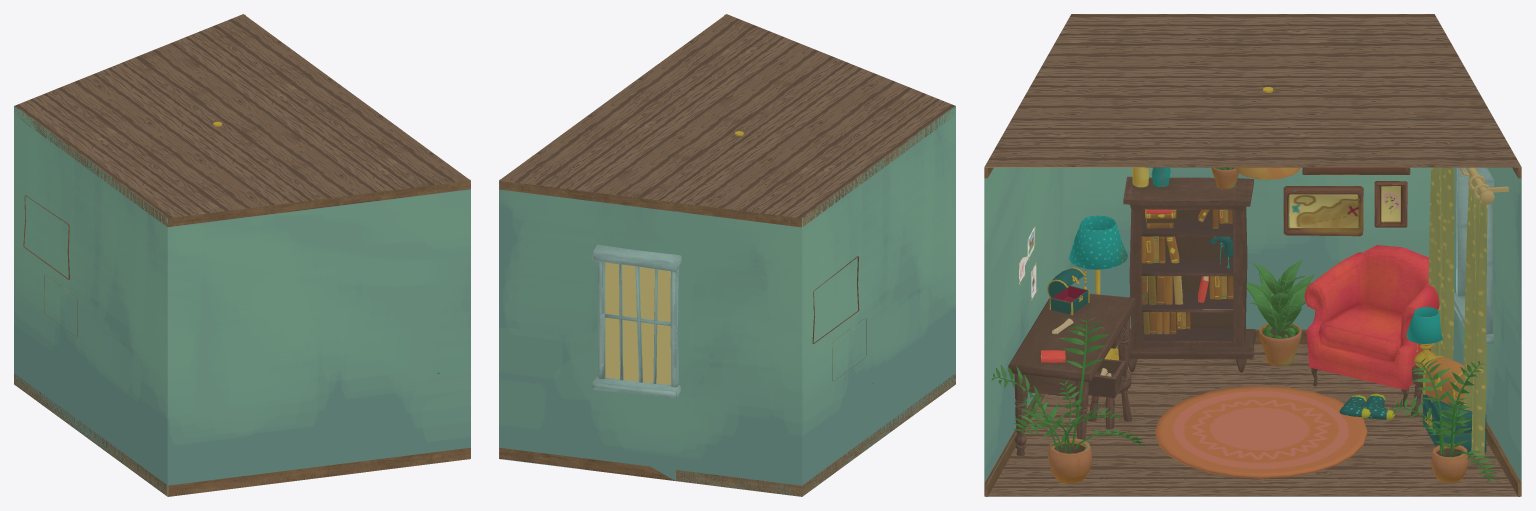
The model's file is room.glb.
The picture shows the model from 3 angles, left to right: view 1: azimuth 30°, elevation 25°; view 2: azimuth 150°, elevation 25°; view 3: azimuth 270°, elevation 25°; orthographic projection. The views are drawn at different scales.
Visible parts, largest first — view 1: room; view 2: room; view 3: room.
Part boxes in pixels (bbox=[...]): room: bbox=[14, 14, 470, 496]; room: bbox=[499, 14, 955, 496]; room: bbox=[984, 14, 1521, 496].
Size of the model in its own units: 52.99 by 50.88 by 74.51.
5 materials, 5 textured.
